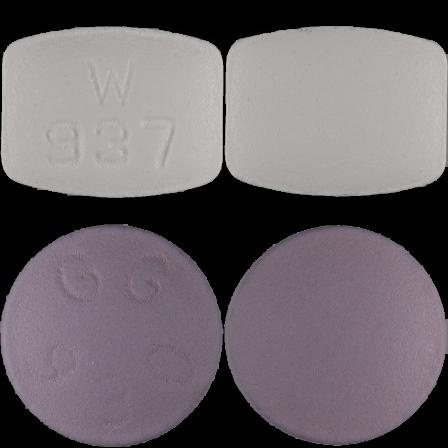68788-9779: (0, 0, 224, 224)
